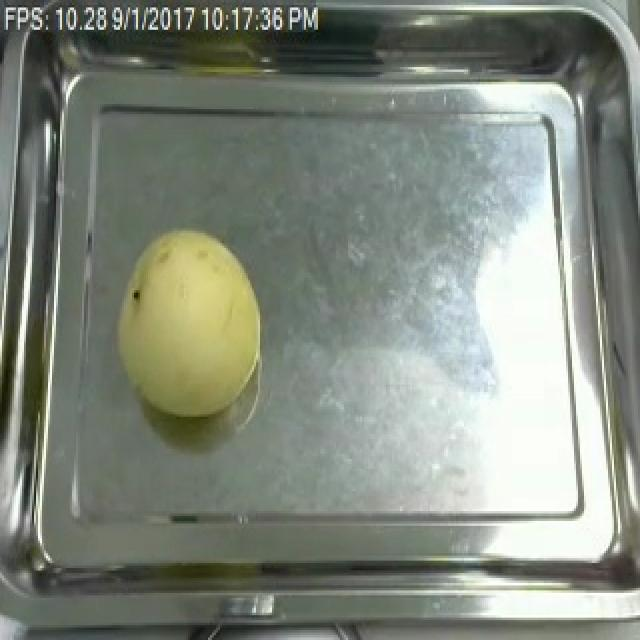Fruit: (108, 223, 270, 424)
